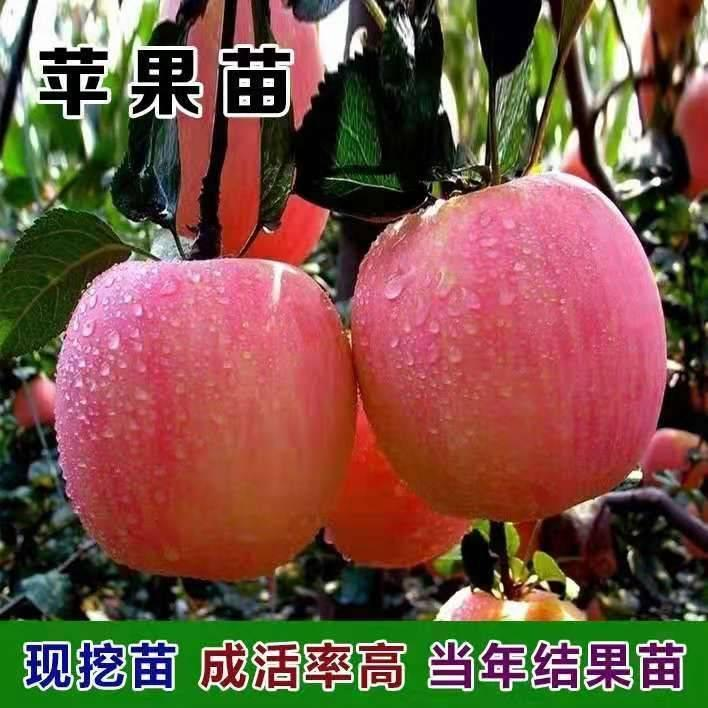apple: (351, 165, 670, 524), (54, 258, 359, 580)
